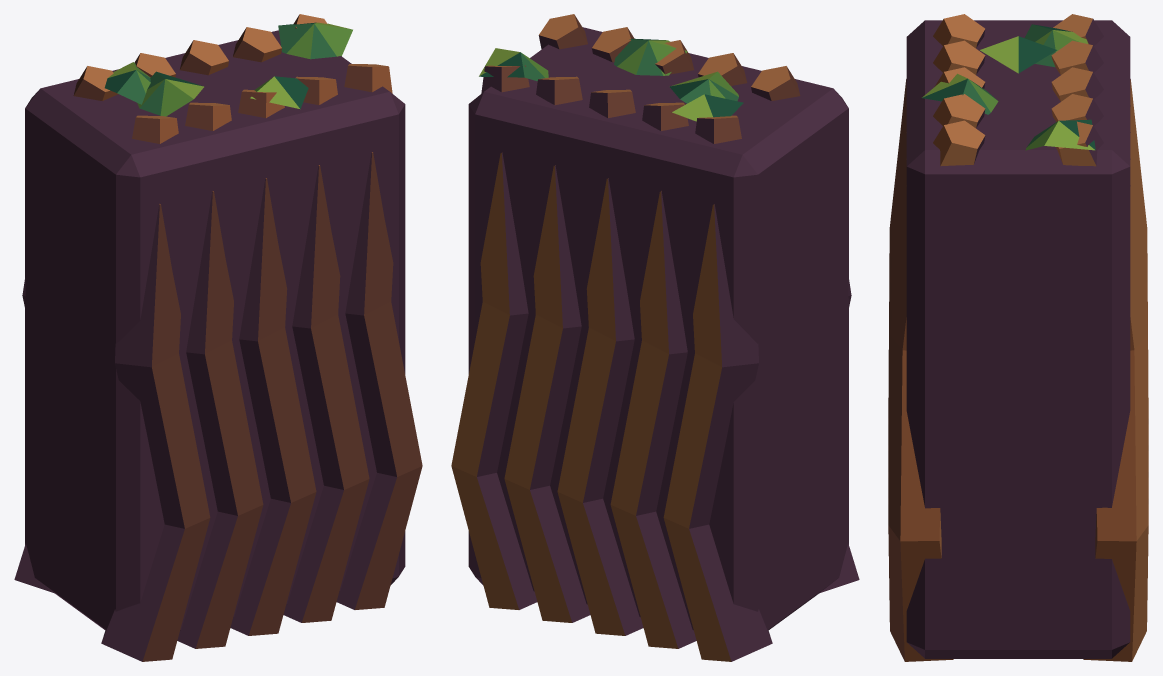
The model's file is grove_root_wall.glb.
3 renders of one model, left to right at view 1: azimuth 30°, elevation 25°; view 2: azimuth 150°, elevation 25°; view 3: azimuth 270°, elevation 25°, orthographic. The views are drawn at different scales.
Parts seen in each view (by area): view 1: grove_root_wall; view 2: grove_root_wall; view 3: grove_root_wall.
Boxes of the visible parts, left/top/right/bottom form: grove_root_wall: left=14, top=14, right=422, bottom=661; grove_root_wall: left=451, top=14, right=859, bottom=661; grove_root_wall: left=888, top=14, right=1148, bottom=661.
Size of the model in its own units: 3.19 by 5.23 by 2.27.
